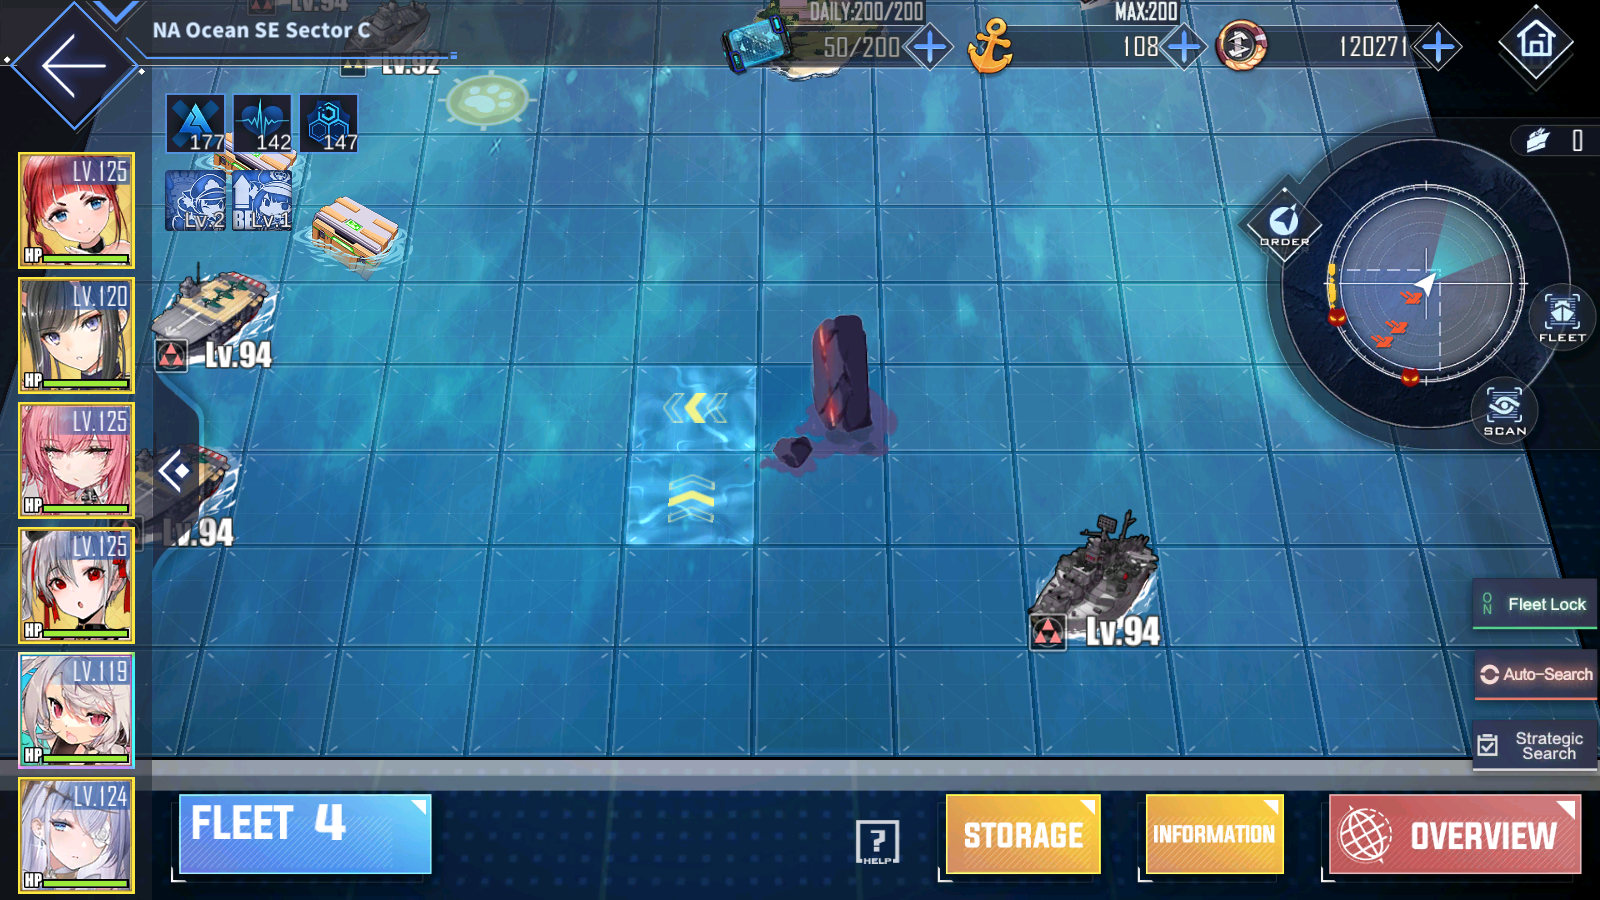enemy: (1026, 512, 1163, 649), (152, 268, 270, 368), (135, 448, 233, 549), (337, 3, 442, 76)
